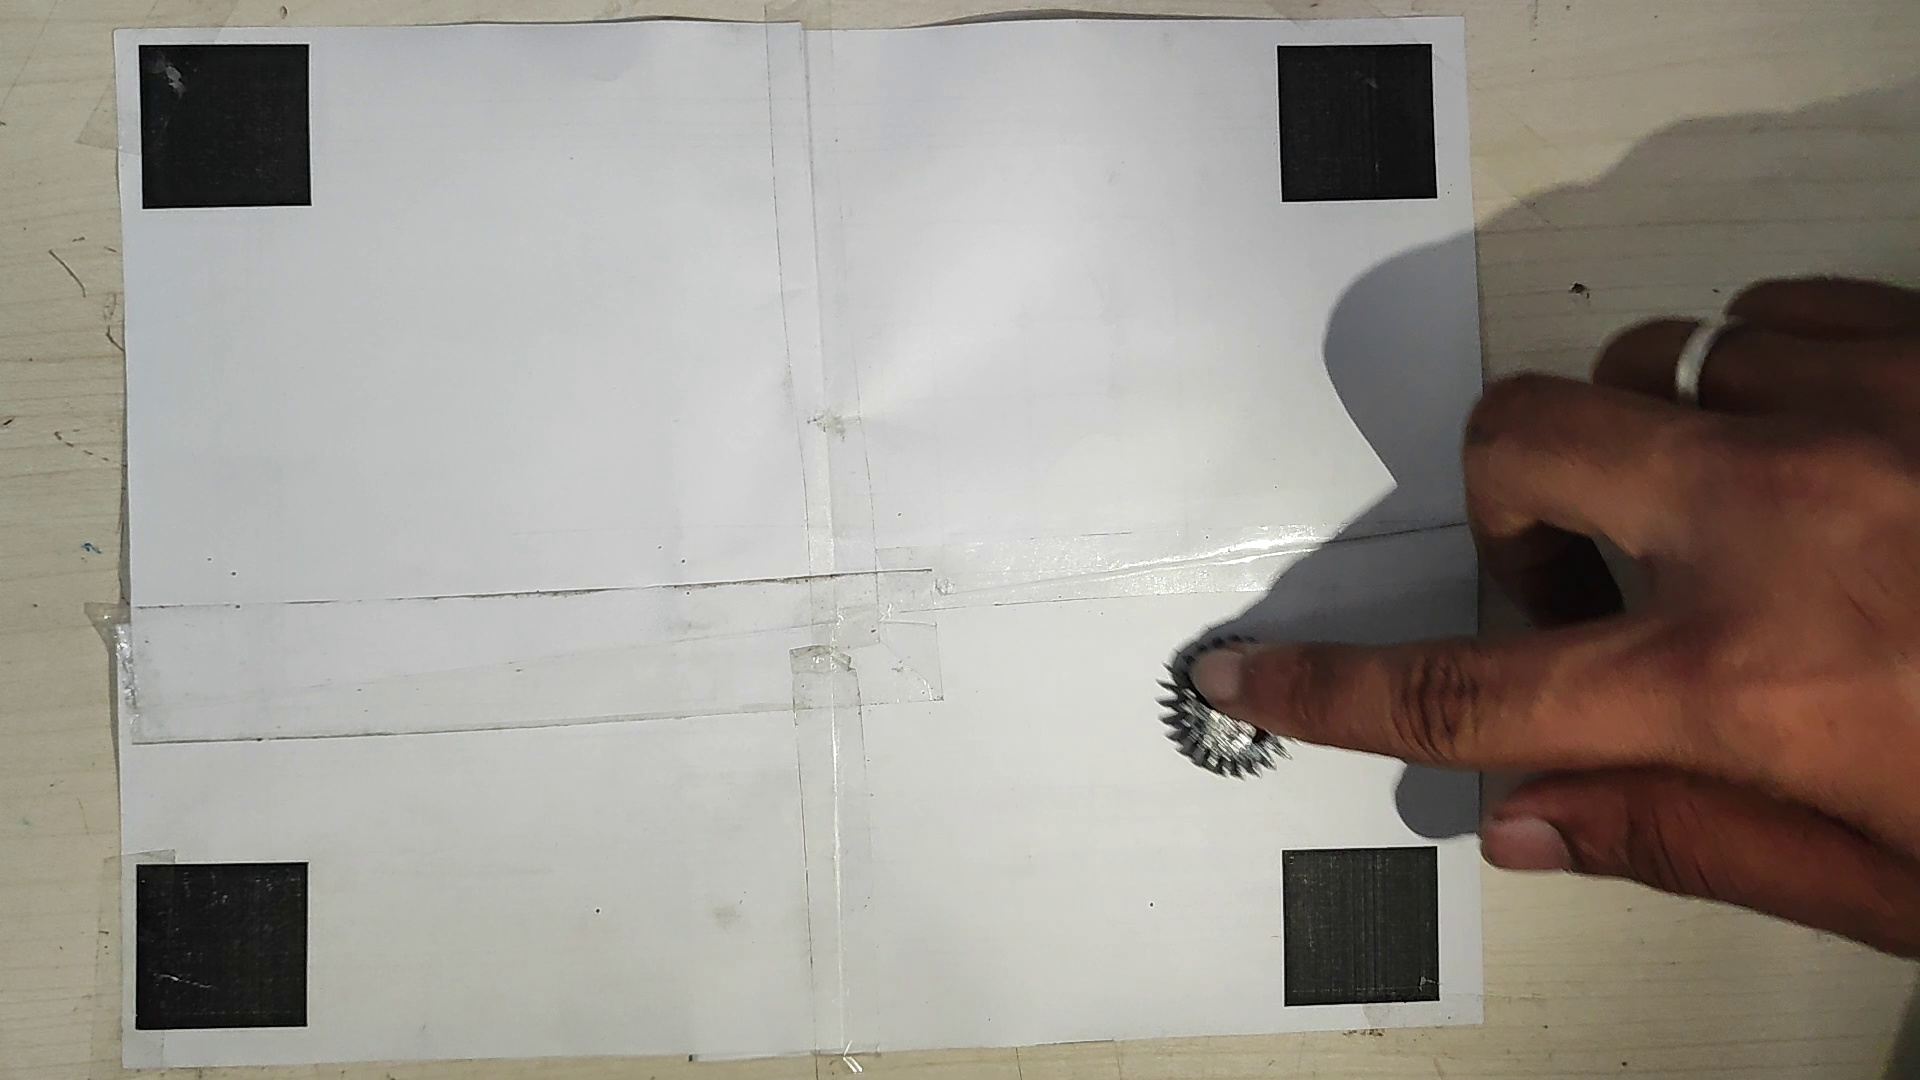Gear: (1153, 644, 1287, 785)
